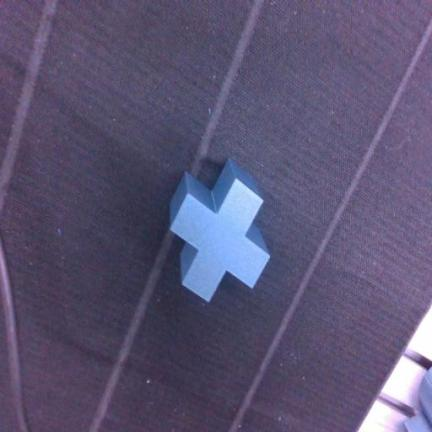cross: (171, 160, 269, 301)
